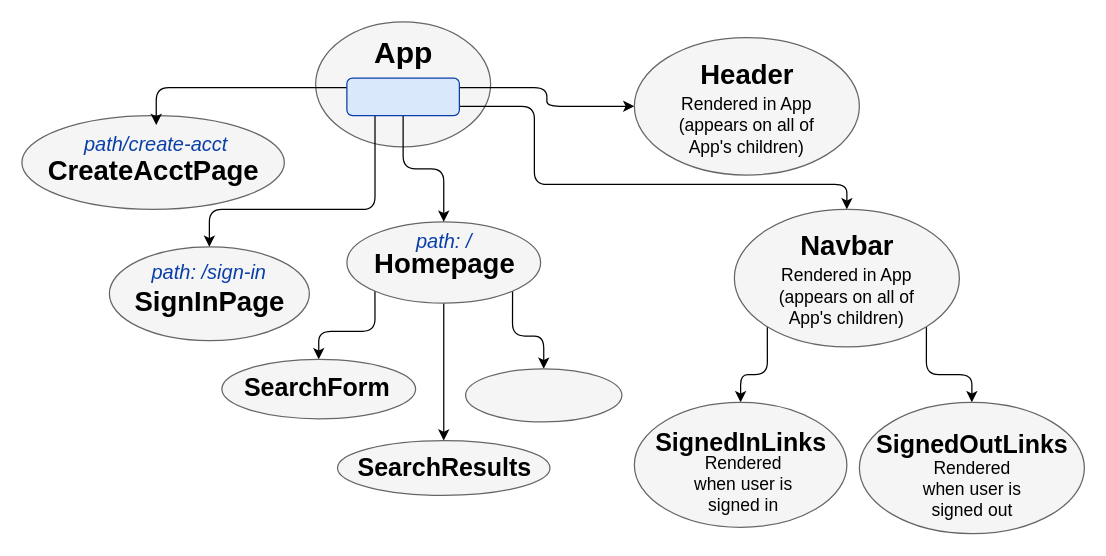
Some shapes in this 1106 by 556 pixel diagram are drawn without their labels. Here are the shapes that lost their labels. From the top down, the centre of each, then its label:
At pixel 402 96: "Routes".
At pixel 543 395: "ArticleList".
